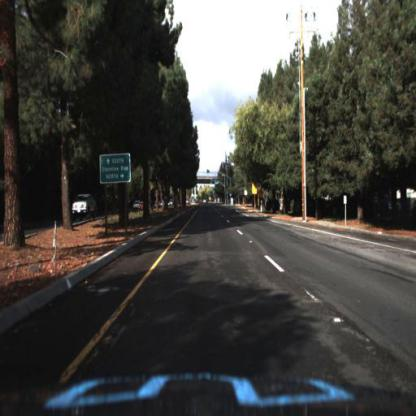car: (70, 194, 98, 226), (71, 191, 96, 221), (131, 198, 142, 214)
